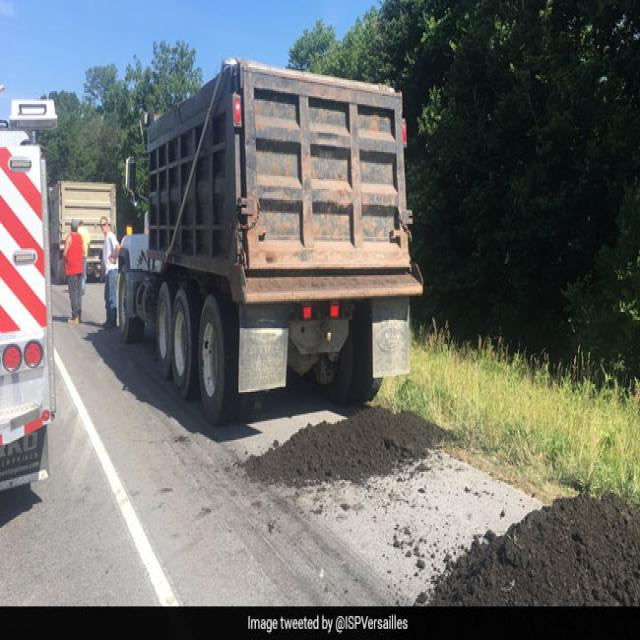truck: (120, 61, 422, 424)
